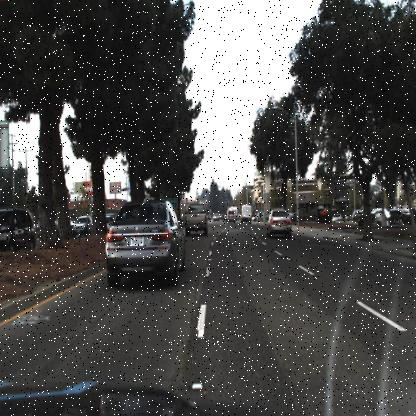car: (103, 200, 186, 284), (0, 206, 37, 256), (265, 209, 291, 243), (184, 202, 208, 238), (71, 214, 94, 240), (238, 200, 255, 227), (223, 205, 240, 226), (330, 210, 345, 226)
